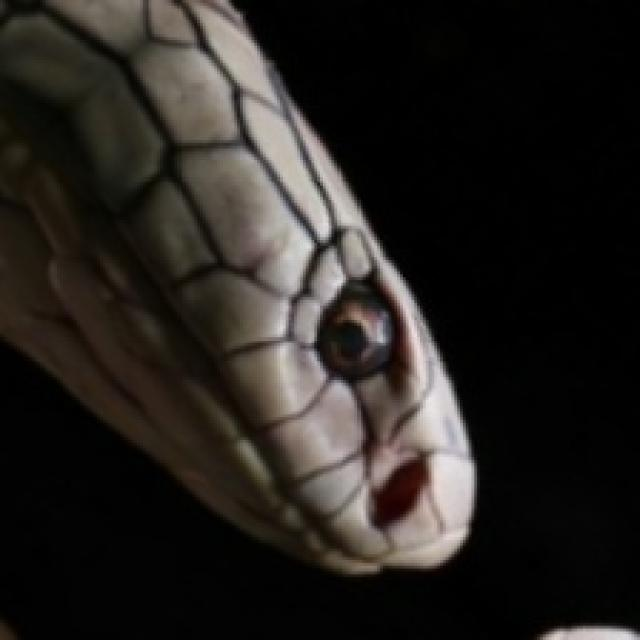king cobra: (0, 0, 471, 571)
